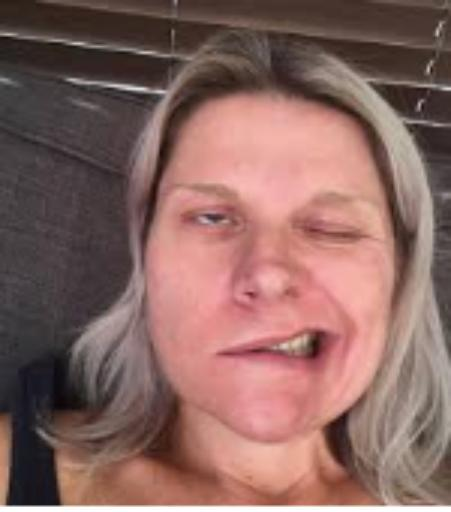left_eye: (300, 220, 366, 246)
left_lip_corner: (320, 325, 351, 345)
right_eye: (180, 209, 245, 235)
right_lip_corner: (209, 345, 231, 365)
